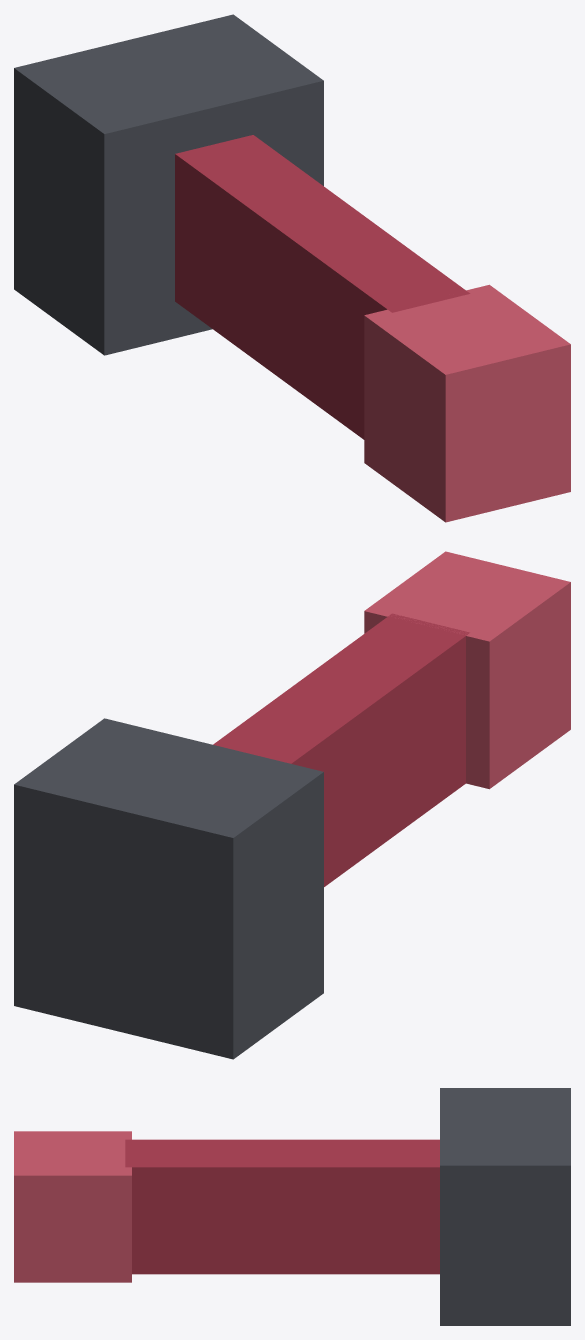
The model's file is energy_sidearm_prop_v01.glb.
The picture shows the model from 3 angles, top to bottom: view 1: azimuth 30°, elevation 25°; view 2: azimuth 150°, elevation 25°; view 3: azimuth 270°, elevation 25°; orthographic projection. The views are drawn at different scales.
Visible parts, largest first — view 1: box_1, box_0, box_2; view 2: box_1, box_0, box_2; view 3: box_0, box_1, box_2.
Boxes of the visible parts, x1,y1,x2,y2 form: box_1: (14, 14, 323, 355); box_0: (175, 135, 470, 439); box_2: (364, 284, 570, 522); box_1: (14, 718, 323, 1059); box_0: (213, 613, 469, 886); box_2: (364, 551, 570, 789); box_0: (125, 1139, 439, 1274); box_1: (440, 1088, 570, 1325); box_2: (14, 1131, 131, 1282).
Size of the model in its own units: 0.28 by 0.27 by 0.85.
